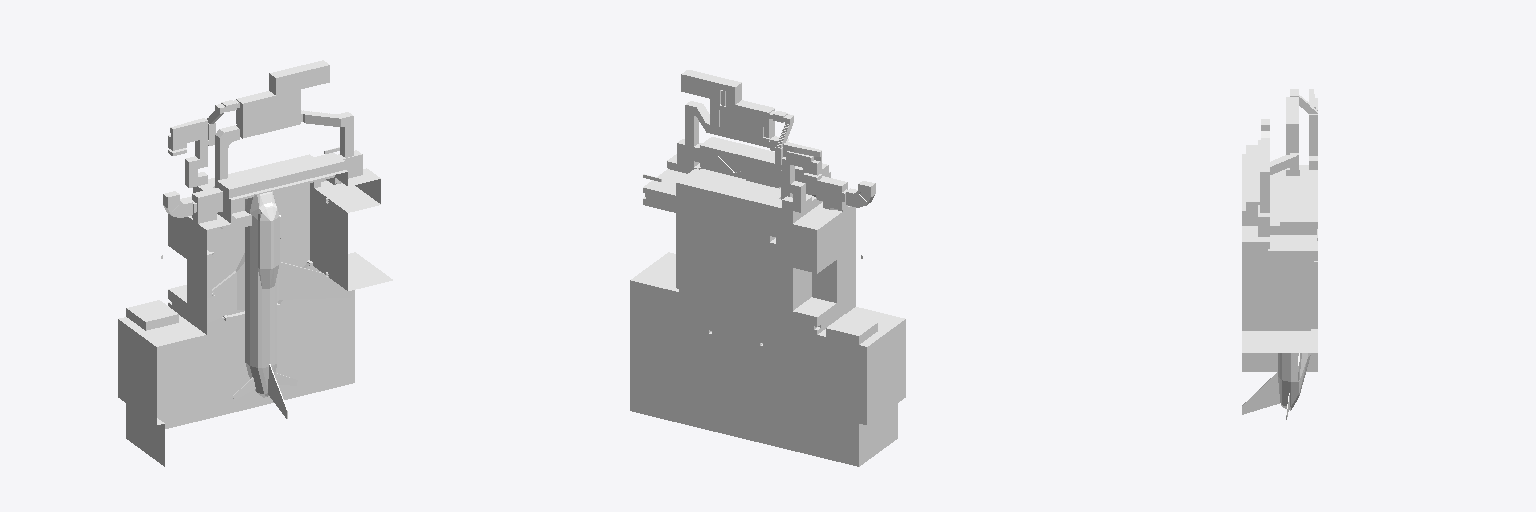
3 views of the same model, side by side, from view 1: azimuth 30°, elevation 25°; view 2: azimuth 150°, elevation 25°; view 3: azimuth 270°, elevation 25° (orthographic).
Visible parts, largest first — view 1: BSP_Object.model_0; view 2: BSP_Object.model_0; view 3: BSP_Object.model_0.
Part boxes in pixels (x1,y1,x2,y2): BSP_Object.model_0: (118, 60, 392, 466); BSP_Object.model_0: (630, 70, 905, 466); BSP_Object.model_0: (1242, 89, 1317, 419).
Size of the model in its own units: 91.2 by 125 by 25.6.